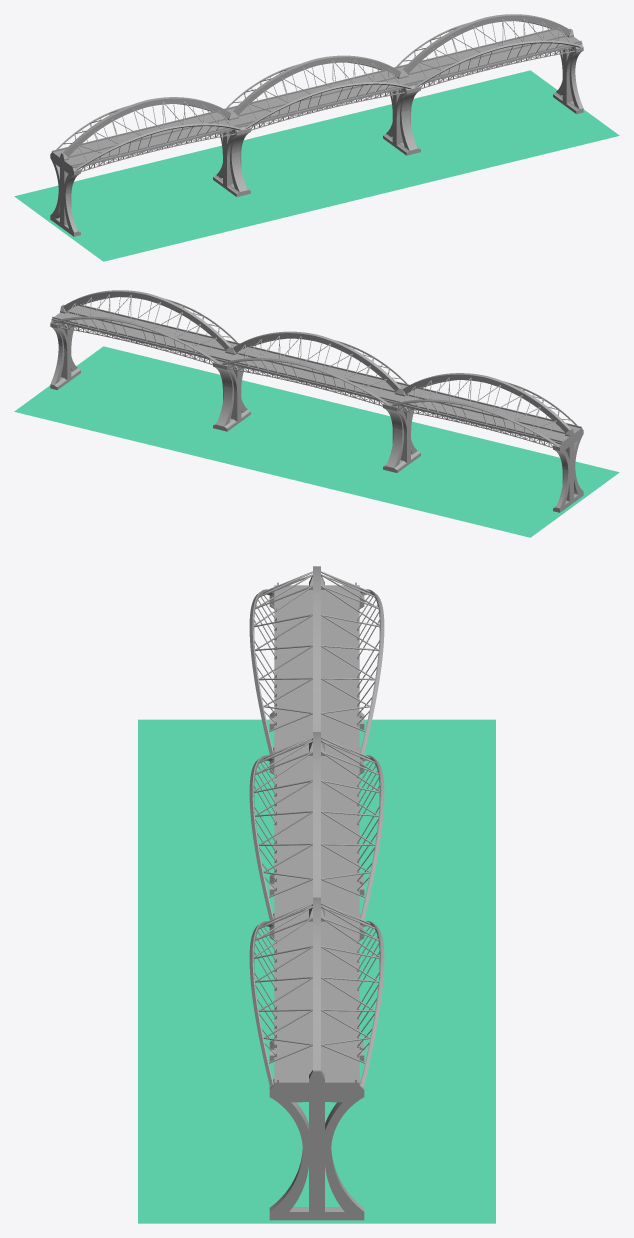
The model's file is bridge_green.fbx.
3 views of the same model, one above another, from view 1: azimuth 30°, elevation 25°; view 2: azimuth 150°, elevation 25°; view 3: azimuth 270°, elevation 25° (orthographic). The views are drawn at different scales.
Parts seen in each view (by area): view 1: ree_ree, bridge2; view 2: ree_ree, bridge2; view 3: ree_ree, bridge2.
Part boxes in pixels (x1,y1,x2,y2): ree_ree: (14, 70, 619, 261); bridge2: (50, 14, 583, 236); ree_ree: (14, 346, 619, 537); bridge2: (50, 290, 583, 512); ree_ree: (138, 719, 495, 1223); bridge2: (249, 566, 384, 1220).
Size of the model in its own units: 10 by 1.97 by 3.
